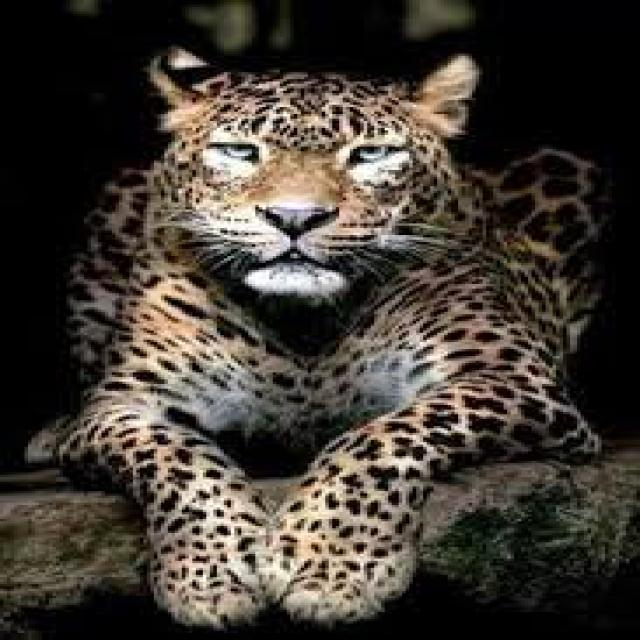Jaguar: (83, 32, 566, 640)
